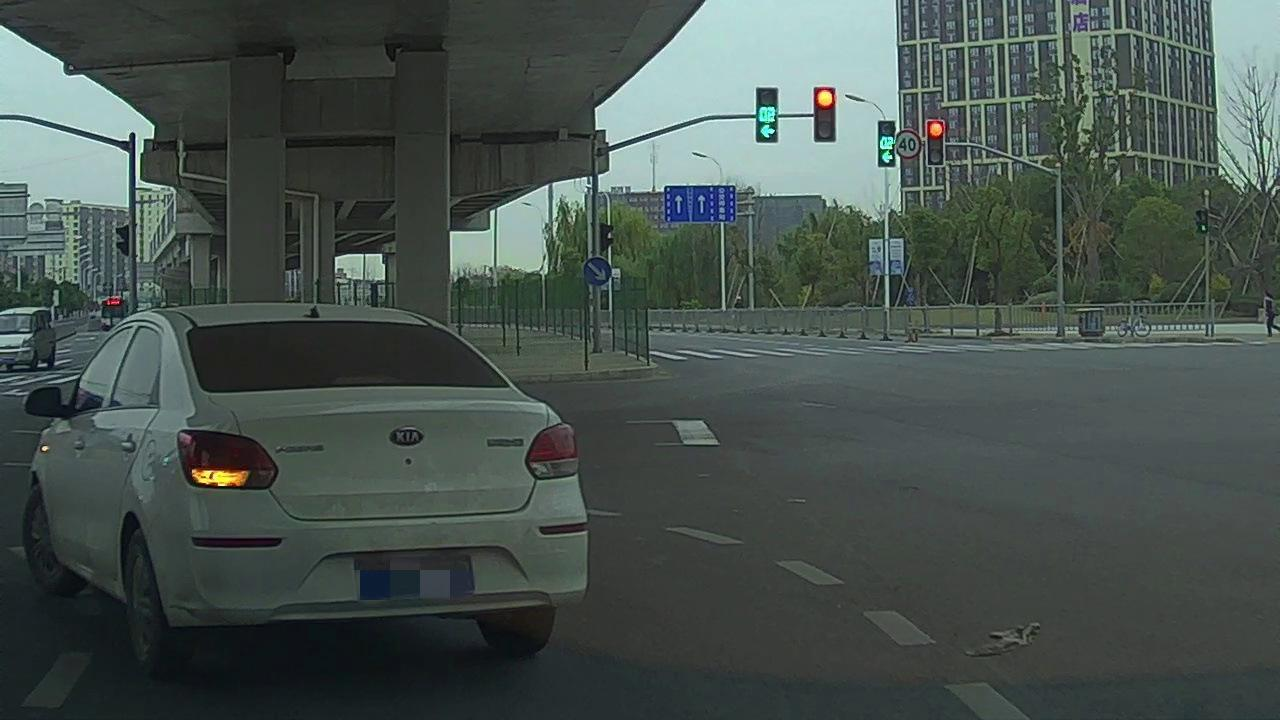traffic_light: (756, 86, 780, 142), (813, 89, 837, 140), (877, 118, 897, 169), (927, 119, 944, 162)
